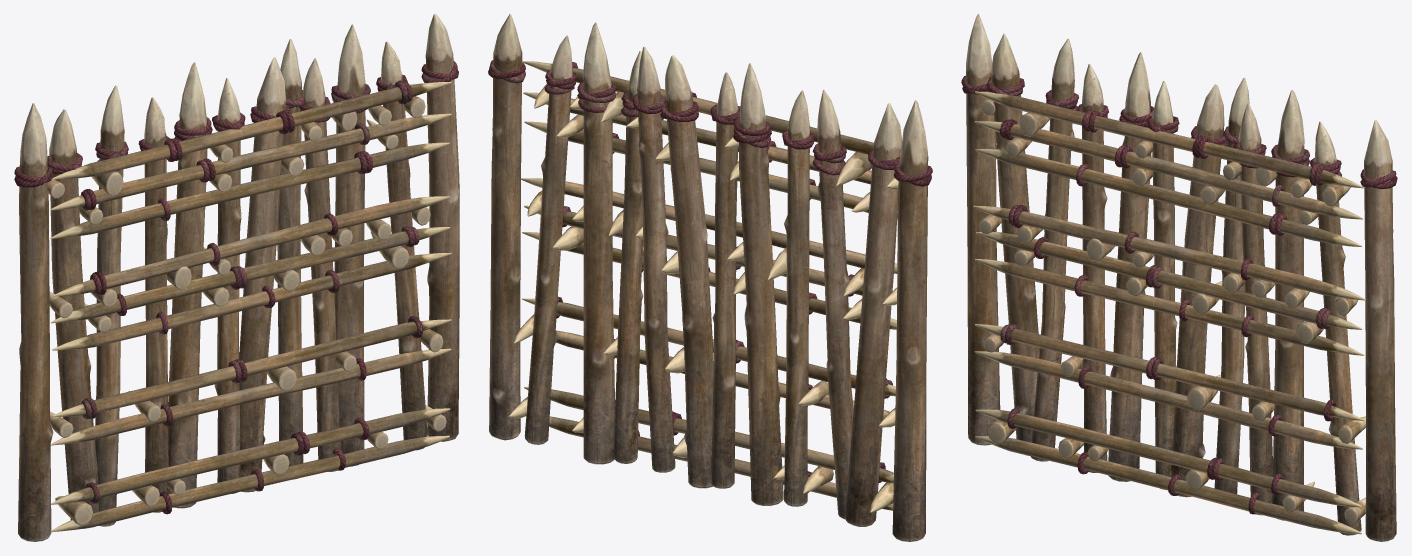
The picture shows the model from 3 angles, left to right: view 1: azimuth 30°, elevation 25°; view 2: azimuth 150°, elevation 25°; view 3: azimuth 330°, elevation 25°; orthographic projection. The views are drawn at different scales.
Visible parts, largest first — view 1: SM_Garou_Set_SM_SpikeFence_04_4x4_LOD0; view 2: SM_Garou_Set_SM_SpikeFence_04_4x4_LOD0; view 3: SM_Garou_Set_SM_SpikeFence_04_4x4_LOD0.
Boxes of the visible parts, x1,y1,x2,y2 form: SM_Garou_Set_SM_SpikeFence_04_4x4_LOD0: [14, 14, 459, 541]; SM_Garou_Set_SM_SpikeFence_04_4x4_LOD0: [488, 14, 932, 541]; SM_Garou_Set_SM_SpikeFence_04_4x4_LOD0: [961, 14, 1397, 541].
Bounding box in the file's own units: 4.29 × 4.06 × 0.5465.
Materials: 2 (2 with a texture image).
